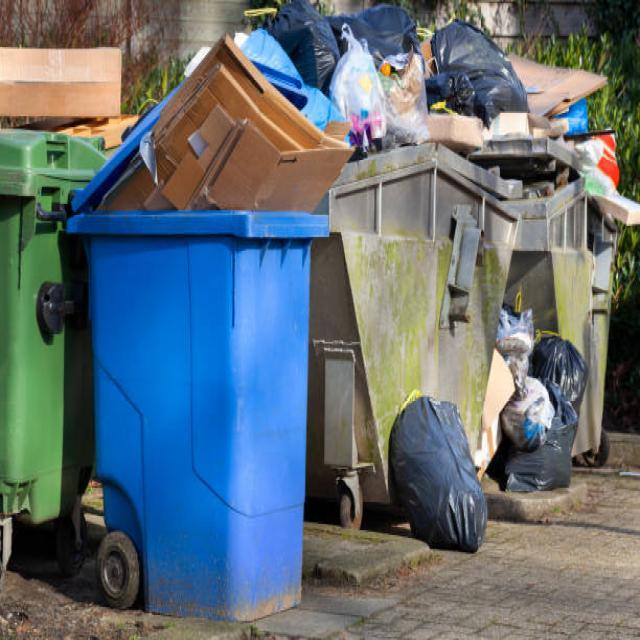garbage: (495, 297, 591, 509), (388, 390, 490, 560), (333, 0, 433, 154), (424, 15, 532, 125), (554, 96, 620, 203), (269, 0, 335, 89)
